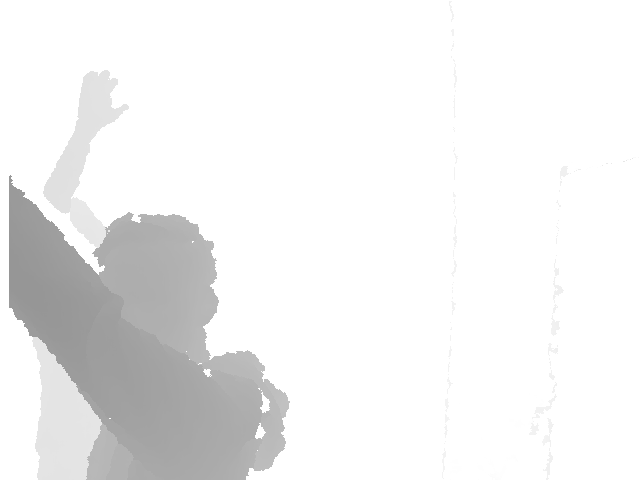hand: (77, 69, 128, 134)
head: (92, 211, 218, 371)
person: (8, 175, 290, 480), (30, 68, 129, 480)
